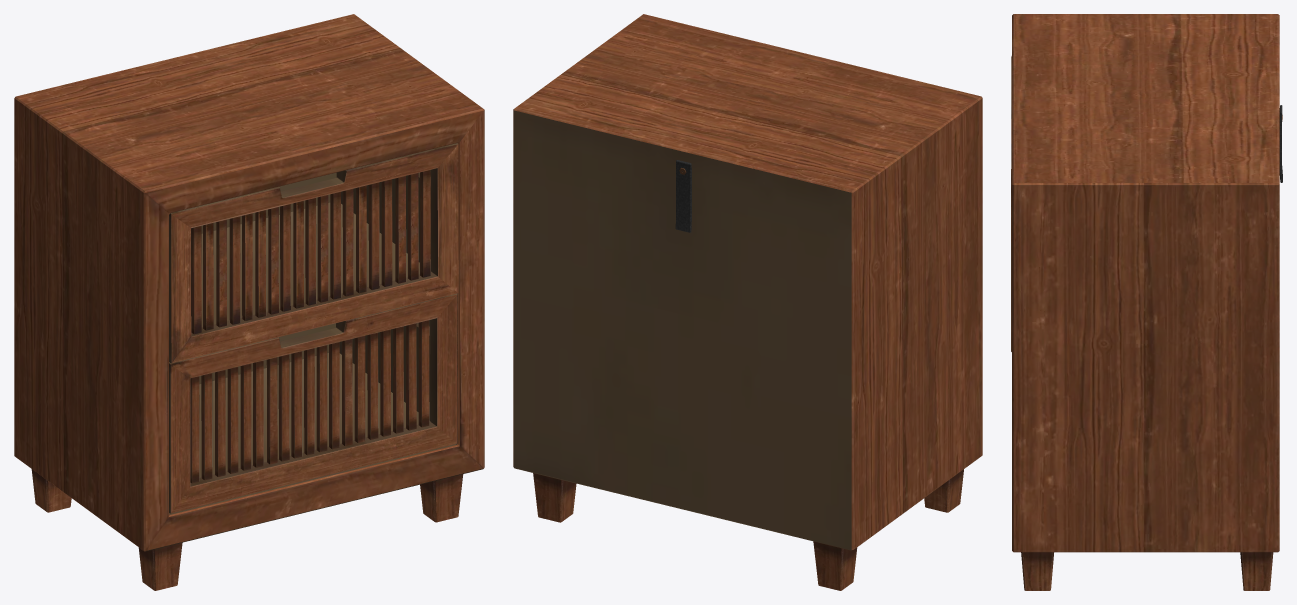
3 renders of one model, left to right at view 1: azimuth 30°, elevation 25°; view 2: azimuth 150°, elevation 25°; view 3: azimuth 270°, elevation 25°, orthographic. The views are drawn at different scales.
Visible parts, largest first — view 1: RootNode; view 2: RootNode; view 3: RootNode.
Part boxes in pixels (x1=…): RootNode: x1=14, y1=14, x2=484, y2=590; RootNode: x1=513, y1=14, x2=982, y2=590; RootNode: x1=1011, y1=14, x2=1282, y2=590.
Bounding box in the file's own units: 0.6073 × 0.6948 × 0.4096.
Materials: 1 (1 with a texture image).
